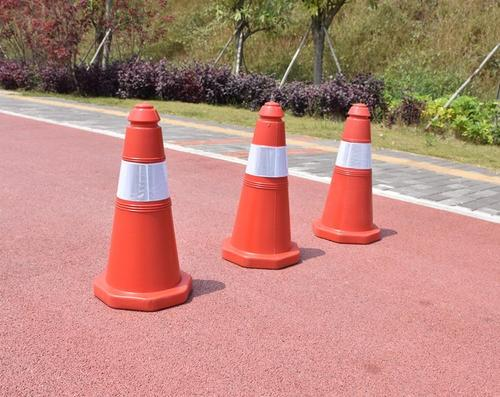cone_barrel: (91, 103, 195, 304), (221, 101, 304, 266), (309, 103, 383, 244)
